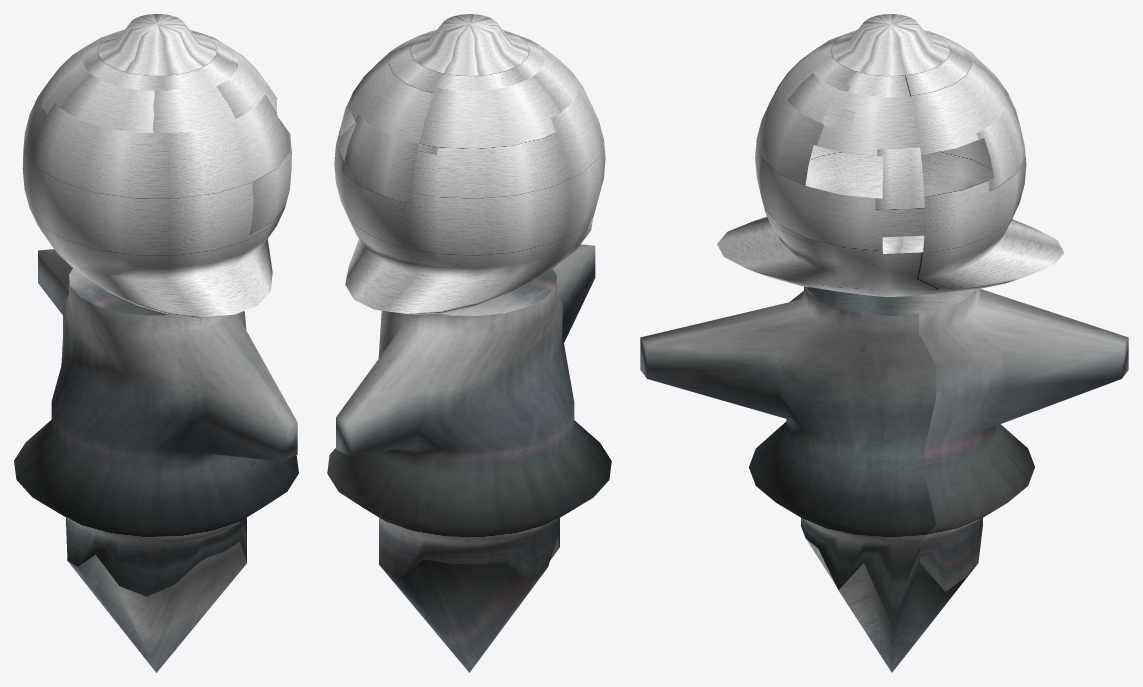
Rendered from Robot.fbx.
3 views of the same model, side by side, from view 1: azimuth 30°, elevation 25°; view 2: azimuth 150°, elevation 25°; view 3: azimuth 270°, elevation 25° (orthographic).
Parts seen in each view (by area): view 1: pSphere2; view 2: pSphere2; view 3: pSphere2.
Boxes of the visible parts, x1=… form: pSphere2: x1=14, y1=14, x2=298, y2=672; pSphere2: x1=327, y1=14, x2=611, y2=672; pSphere2: x1=640, y1=14, x2=1128, y2=672.
Bounding box in the file's own units: 1.89 × 4.73 × 3.23.
Materials: 2 (2 with a texture image).
